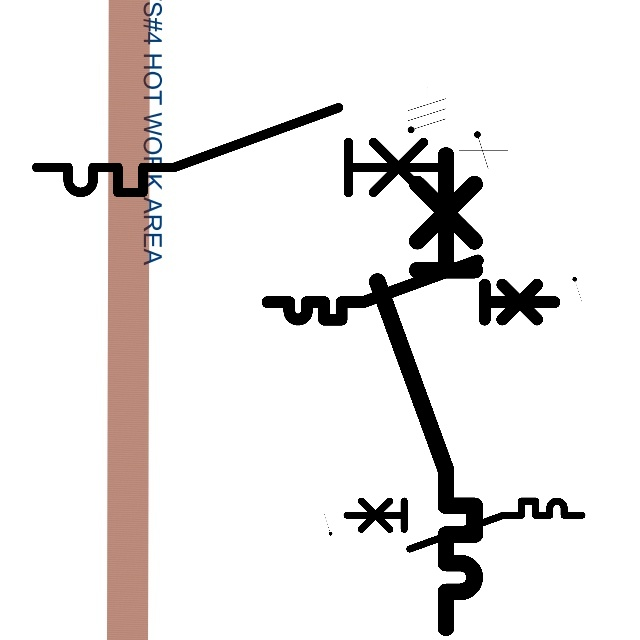interruptor_termomagnetico: (365, 143, 487, 640), (26, 97, 459, 203), (260, 253, 562, 327), (340, 495, 587, 555)
